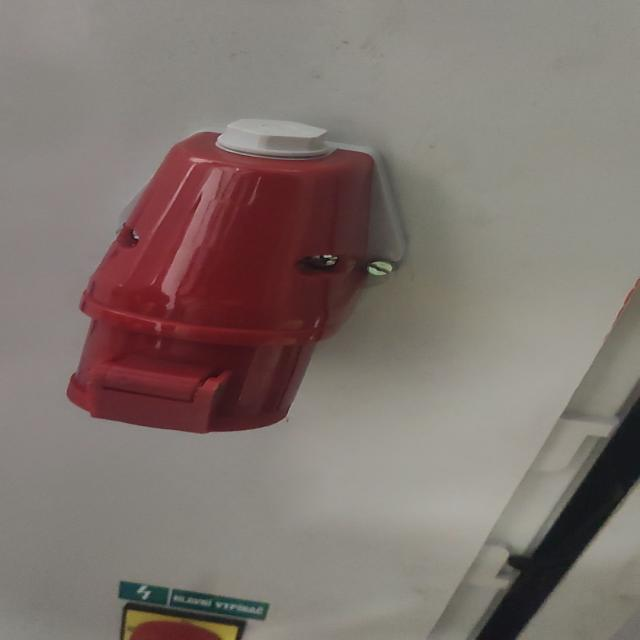400v socket down: (66, 119, 408, 438)
safety switch: (117, 602, 246, 640)
